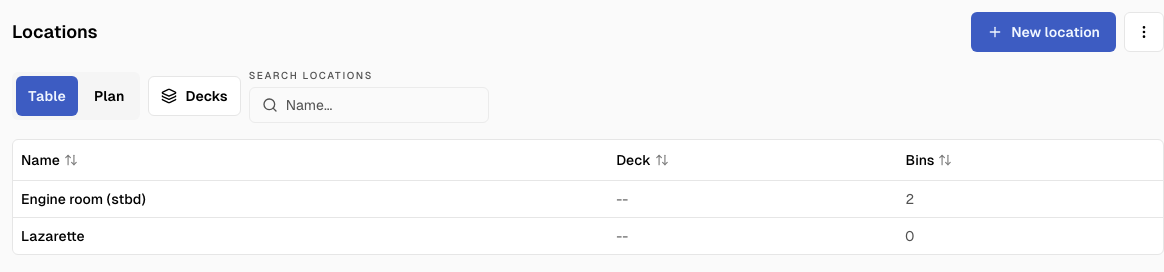
Test: LocationsIndex › filters by name from the search box
This screenshot has width=1164, height=272.
Check: the text "Lazarette" is shown, box [21, 228, 85, 244]
Type "laz" into the field labelled "Search locations" at (383, 105), box [278, 85, 488, 125]
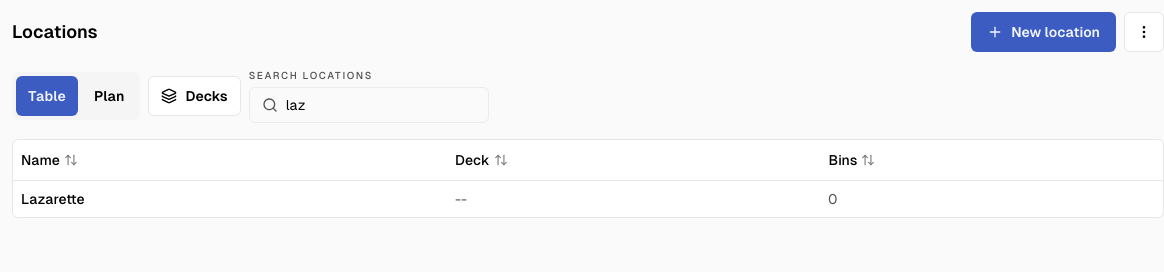
Check: the text "Lazarette" is shown, box [21, 190, 85, 206]
Check: the text "Engine room (stbd)" is gone
